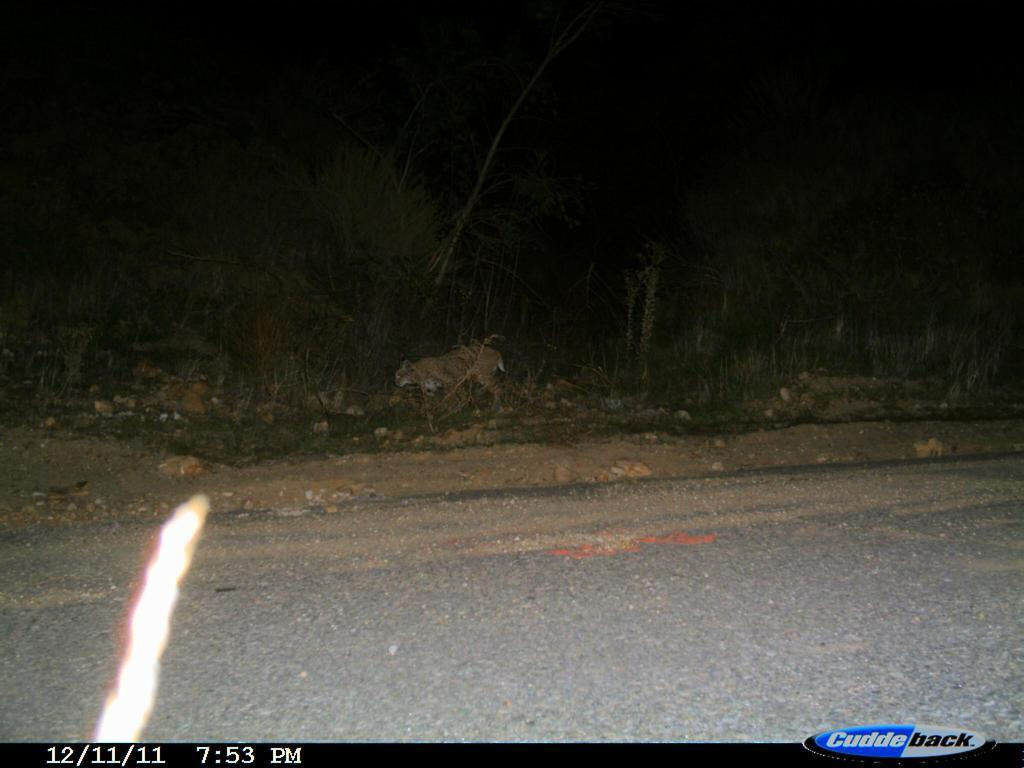bobcat: (385, 336, 511, 411)
